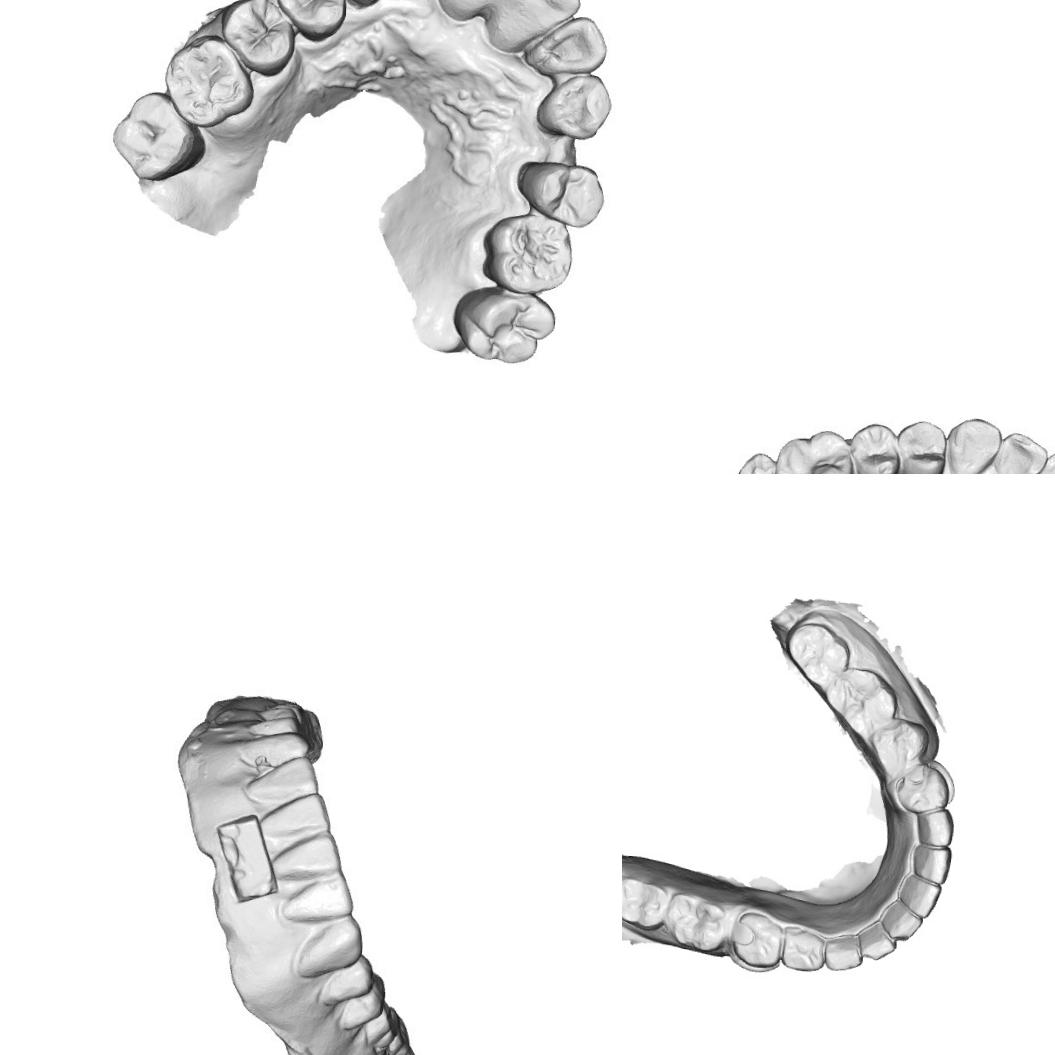canine: (532, 71, 616, 142), (296, 920, 366, 974), (942, 414, 1004, 474), (233, 734, 315, 770), (912, 805, 956, 848), (822, 931, 864, 972)
incisor: (520, 12, 612, 79), (493, 0, 577, 59), (258, 791, 338, 848), (248, 754, 325, 810), (278, 876, 362, 924), (266, 838, 346, 882), (894, 869, 943, 920), (877, 896, 924, 943), (907, 840, 953, 886), (992, 431, 1041, 474), (445, 0, 524, 26), (856, 917, 898, 962)
molar: (107, 88, 208, 184), (448, 284, 557, 368), (478, 206, 579, 296), (162, 36, 252, 122), (821, 664, 900, 737), (783, 620, 852, 688), (660, 890, 730, 954), (773, 428, 854, 474), (622, 874, 670, 932), (716, 448, 796, 474)
premolar: (511, 152, 606, 228), (215, 0, 298, 76), (866, 714, 931, 778), (268, 0, 350, 45), (728, 909, 784, 971), (891, 418, 951, 474), (893, 762, 951, 815), (851, 423, 899, 474), (778, 922, 826, 973)
